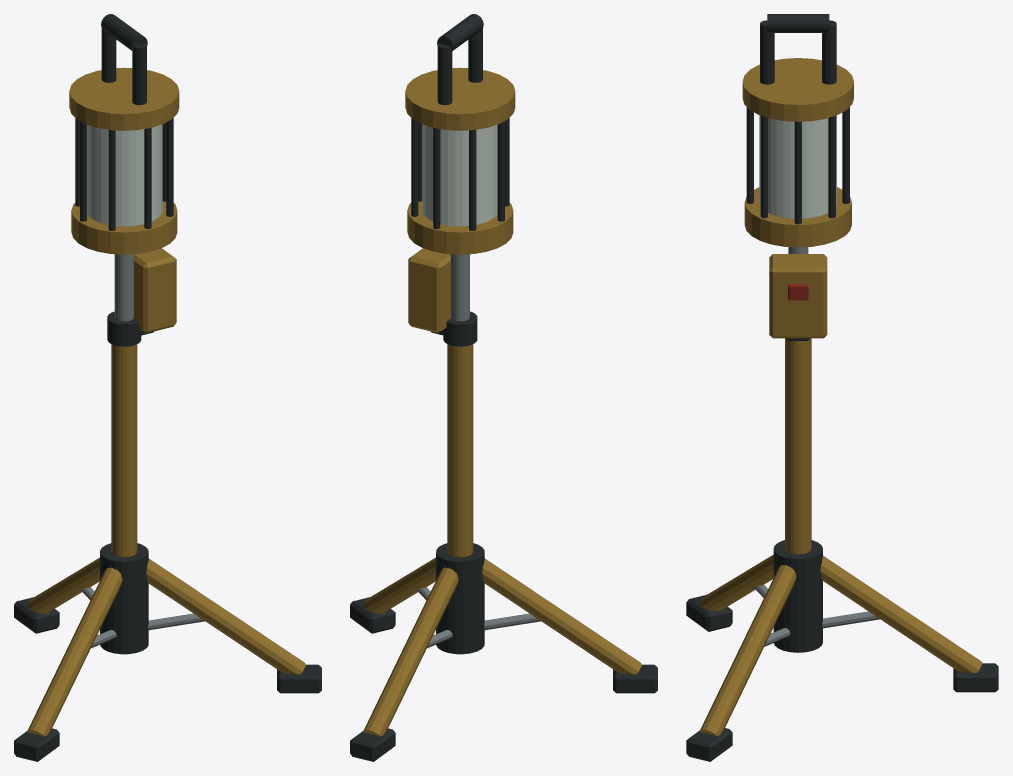
File: SM_StandingLamp_A.fbx
3 views of the same model, side by side, from view 1: azimuth 30°, elevation 25°; view 2: azimuth 150°, elevation 25°; view 3: azimuth 270°, elevation 25° (orthographic).
Visible parts, largest first — view 1: SM_StandingLamp_A; view 2: SM_StandingLamp_A; view 3: SM_StandingLamp_A.
Part boxes in pixels (x1,y1,x2,y2): SM_StandingLamp_A: [14, 14, 321, 761]; SM_StandingLamp_A: [350, 14, 657, 761]; SM_StandingLamp_A: [686, 14, 998, 761].
Bounding box in the file's own units: 75.6 × 86.95 × 180.
